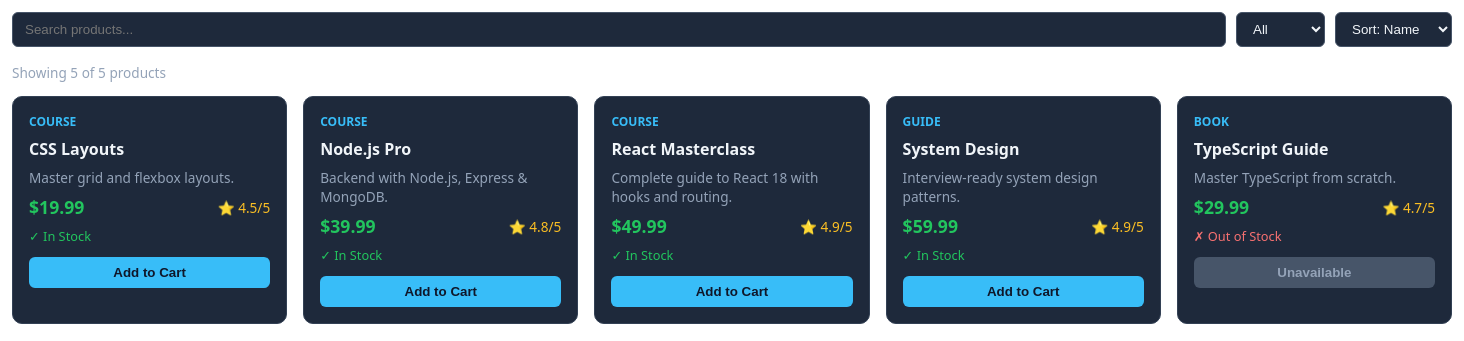
Test case: ProductList + ProductCard — Integration Tests › Search functionality › filters products by name
This screenshot has width=1464, height=341.
Type "React" into the field with test id "search-input". click: [619, 30]
box: [12,12,1226,47]
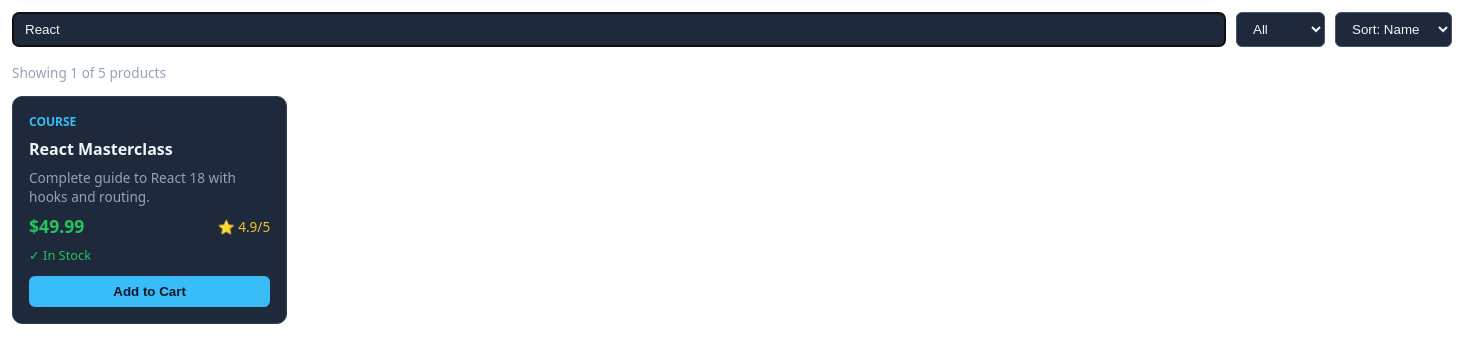
expect the heading "React Masterclass" is shown: met, box [29,138,173,160]
expect the heading "Node.js Pro" is gone: met
